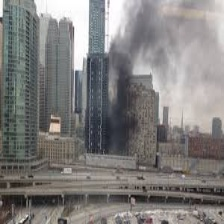smoke: (111, 3, 164, 138)
